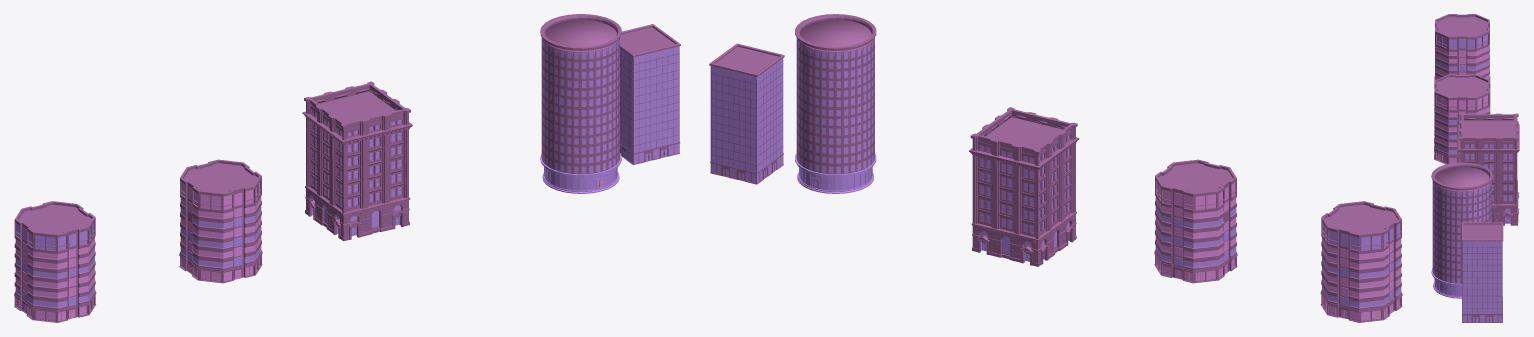
File: Buildings.fbx
3 views of the same model, side by side, from view 1: azimuth 30°, elevation 25°; view 2: azimuth 150°, elevation 25°; view 3: azimuth 270°, elevation 25° (orthographic). The views are drawn at different scales.
Visible parts, largest first — view 1: SM_Bld_OfficeOld_Large_01, SM_Bld_OfficeRound_Base_01_Glass, SM_Bld_OfficeOctagon_Base_01_Glass, SM_Bld_OfficeOctagon_Base_01_Glass.001, SM_Bld_OfficeSquare_Base_01_Glass; view 2: SM_Bld_OfficeOld_Large_01, SM_Bld_OfficeRound_Base_01_Glass, SM_Bld_OfficeSquare_Base_01_Glass, SM_Bld_OfficeOctagon_Base_01_Glass, SM_Bld_OfficeOctagon_Base_01_Glass.001; view 3: SM_Bld_OfficeRound_Base_01_Glass, SM_Bld_OfficeOld_Large_01, SM_Bld_OfficeSquare_Base_01_Glass, SM_Bld_OfficeOctagon_Base_01_Glass, SM_Bld_OfficeOctagon_Base_01_Glass.001.
Boxes of the visible parts, bbox=[...] form: SM_Bld_OfficeOld_Large_01: bbox=[302, 81, 412, 241]; SM_Bld_OfficeRound_Base_01_Glass: bbox=[540, 14, 621, 193]; SM_Bld_OfficeOctagon_Base_01_Glass: bbox=[179, 159, 262, 283]; SM_Bld_OfficeOctagon_Base_01_Glass.001: bbox=[14, 201, 96, 322]; SM_Bld_OfficeSquare_Base_01_Glass: bbox=[620, 24, 680, 164]; SM_Bld_OfficeOld_Large_01: bbox=[969, 107, 1079, 266]; SM_Bld_OfficeRound_Base_01_Glass: bbox=[795, 14, 876, 193]; SM_Bld_OfficeSquare_Base_01_Glass: bbox=[709, 43, 784, 184]; SM_Bld_OfficeOctagon_Base_01_Glass: bbox=[1154, 159, 1237, 283]; SM_Bld_OfficeOctagon_Base_01_Glass.001: bbox=[1320, 201, 1402, 322]; SM_Bld_OfficeRound_Base_01_Glass: bbox=[1431, 162, 1493, 298]; SM_Bld_OfficeOld_Large_01: bbox=[1458, 113, 1519, 225]; SM_Bld_OfficeSquare_Base_01_Glass: bbox=[1461, 222, 1503, 322]; SM_Bld_OfficeOctagon_Base_01_Glass: bbox=[1434, 74, 1490, 164]; SM_Bld_OfficeOctagon_Base_01_Glass.001: bbox=[1434, 14, 1490, 80].
Bounding box in the file's own units: 2.14 × 0.4673 × 0.3281.
1 material, 1 textured.
